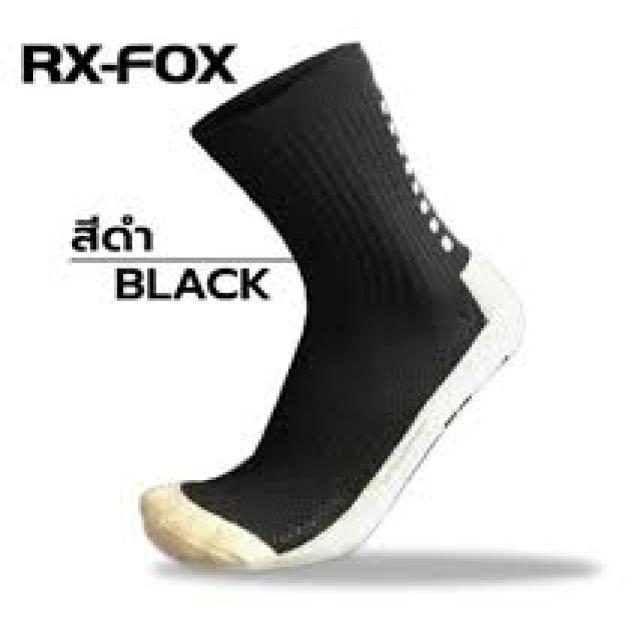sock: (138, 38, 526, 569)
